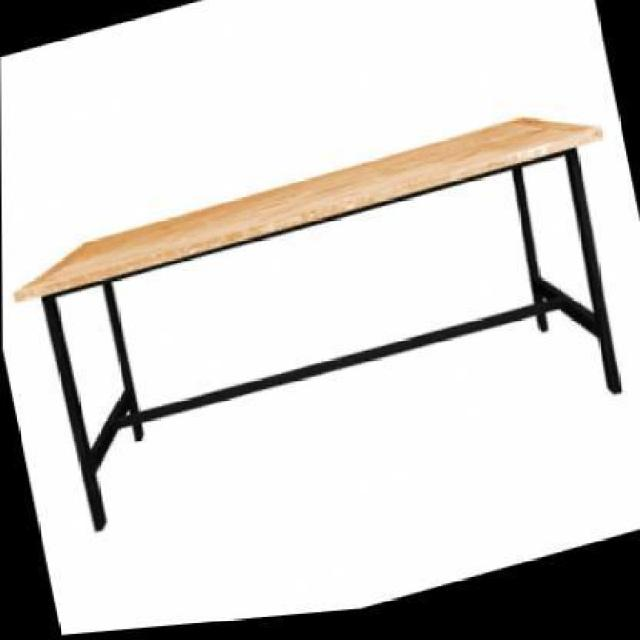tables: (12, 114, 623, 531)
